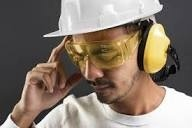safety_goggles: (45, 33, 152, 67)
